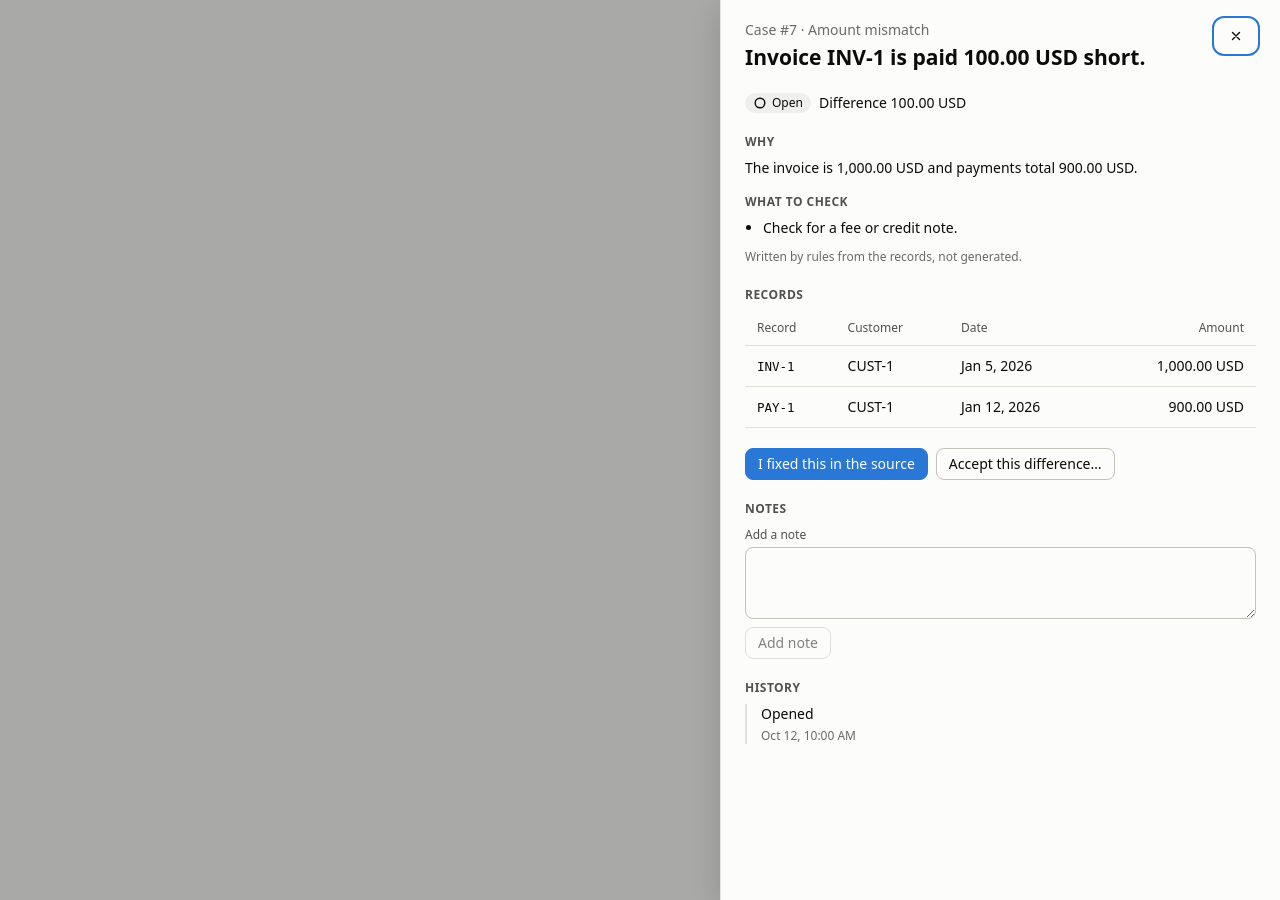
Test: CaseDrawer › reports a fix with the version it saw and an idempotency key, and shows the result
Click the button "I fixed this in the source": (836, 464) [745,448,928,480]
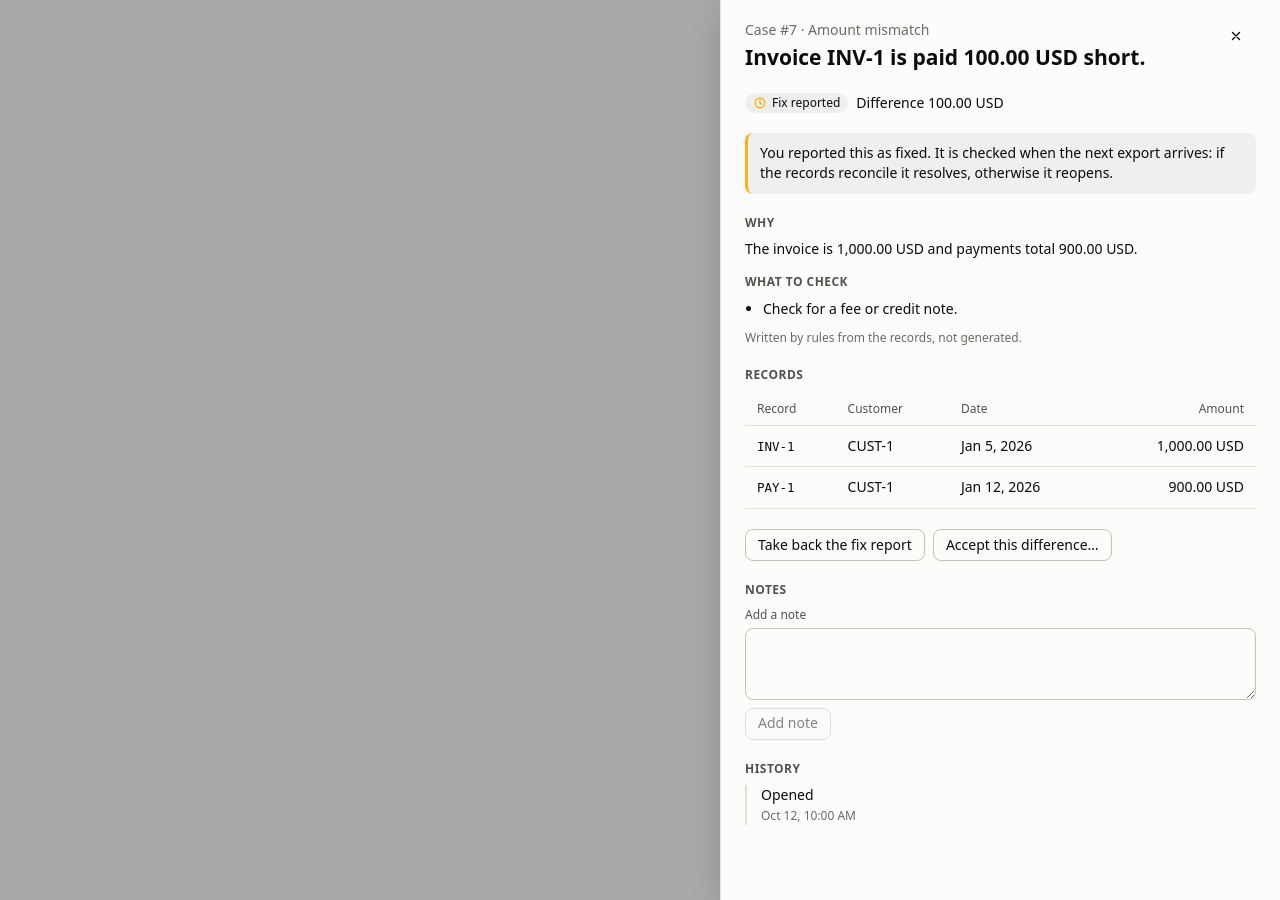
Now the text "You reported this as fixed" is shown, box [760,143,1224,182]
Now the button "Take back the fix report" is shown, box [745,529,925,561]
